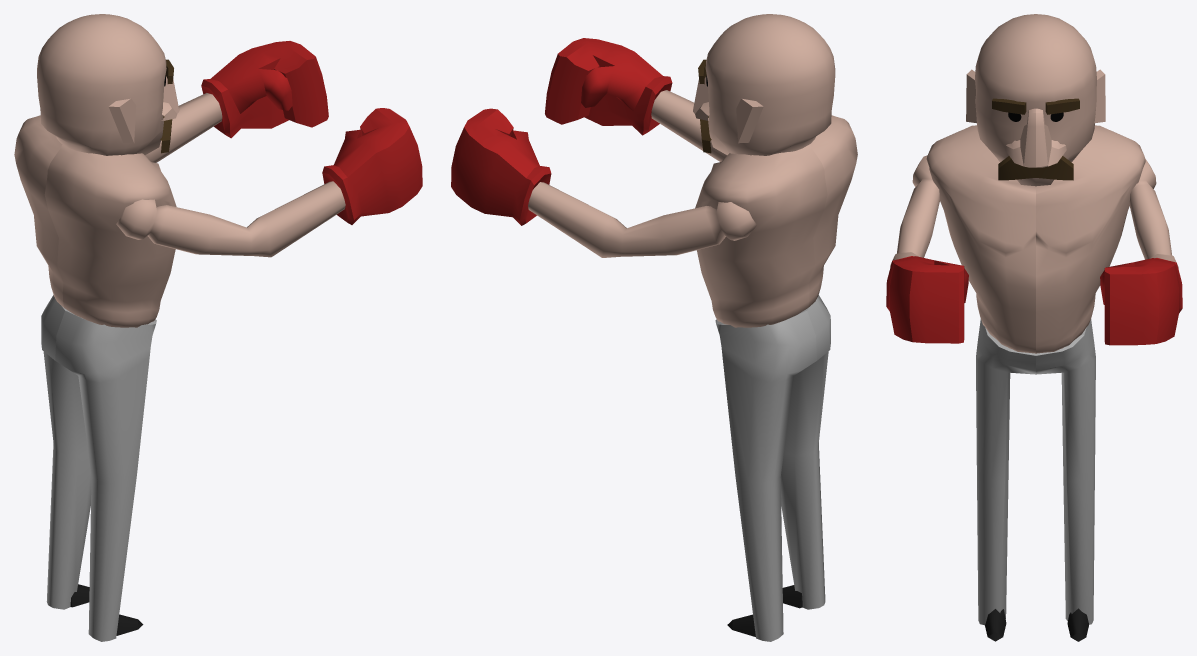
Rendered from Boxer_01.fbx.
3 views of the same model, side by side, from view 1: azimuth 30°, elevation 25°; view 2: azimuth 150°, elevation 25°; view 3: azimuth 270°, elevation 25° (orthographic). The views are drawn at different scales.
Visible parts, largest first — view 1: pCylinder8, pCube14, pCube15, pCylinder1, pCube11, pCube16, pCylinder9, pCube6; view 2: pCylinder9, pCube16, pCube11, pCylinder1, pCube15, pCube14, pCylinder8, pCube7; view 3: pCylinder8, pCylinder9, pCylinder1, pCube14, pCube16, pCube15, pCube11, pCube2, pCube3, pCube8 (×2), pCube5, pCube4 (+4 smaller).
Boxes of the visible parts, x1,y1,x2,y2 form: pCylinder8: (44,144,176,327); pCube14: (55,310,156,641); pCube15: (116,108,422,257); pCylinder1: (37,14,166,155); pCube11: (145,41,328,162); pCube16: (41,295,91,609); pCylinder9: (14,115,63,307); pCube6: (108,98,136,143); pCylinder9: (695,144,827,327); pCube16: (715,310,816,641); pCube11: (451,108,756,257); pCylinder1: (705,14,835,155); pCube15: (545,38,726,161); pCube14: (780,295,830,609); pCylinder8: (808,115,857,307); pCube7: (736,98,763,143); pCylinder8: (926,125,1035,353); pCylinder9: (1036,125,1145,353); pCylinder1: (975,14,1096,186); pCube14: (976,319,1035,625); pCube16: (1036,319,1095,624); pCube15: (886,155,968,343); pCube11: (1100,159,1182,345); pCube2: (1005,108,1035,167); pCube3: (1036,108,1066,167); pCube8 (×2): (992,98,1079,114); pCube5: (1036,156,1073,180); pCube4: (998,156,1035,180).
Bounding box in the file's own units: 101 × 178 × 78.71.
